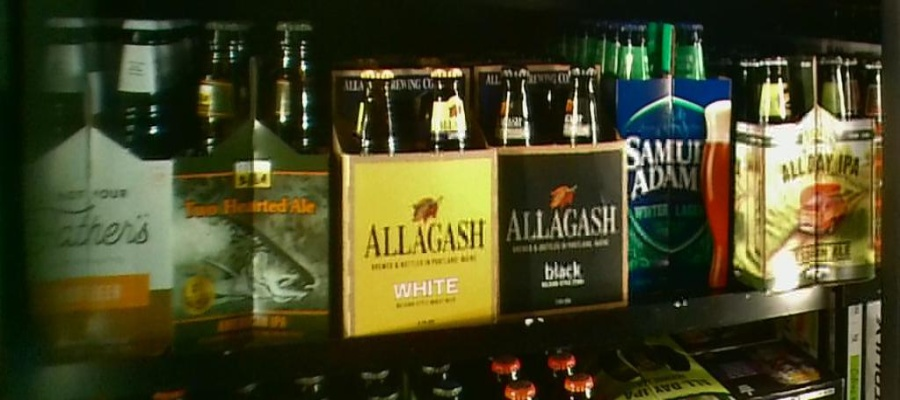bottle: (171, 20, 338, 344), (25, 13, 174, 365), (340, 53, 495, 340), (499, 55, 627, 325), (737, 48, 875, 292), (628, 23, 732, 304)
